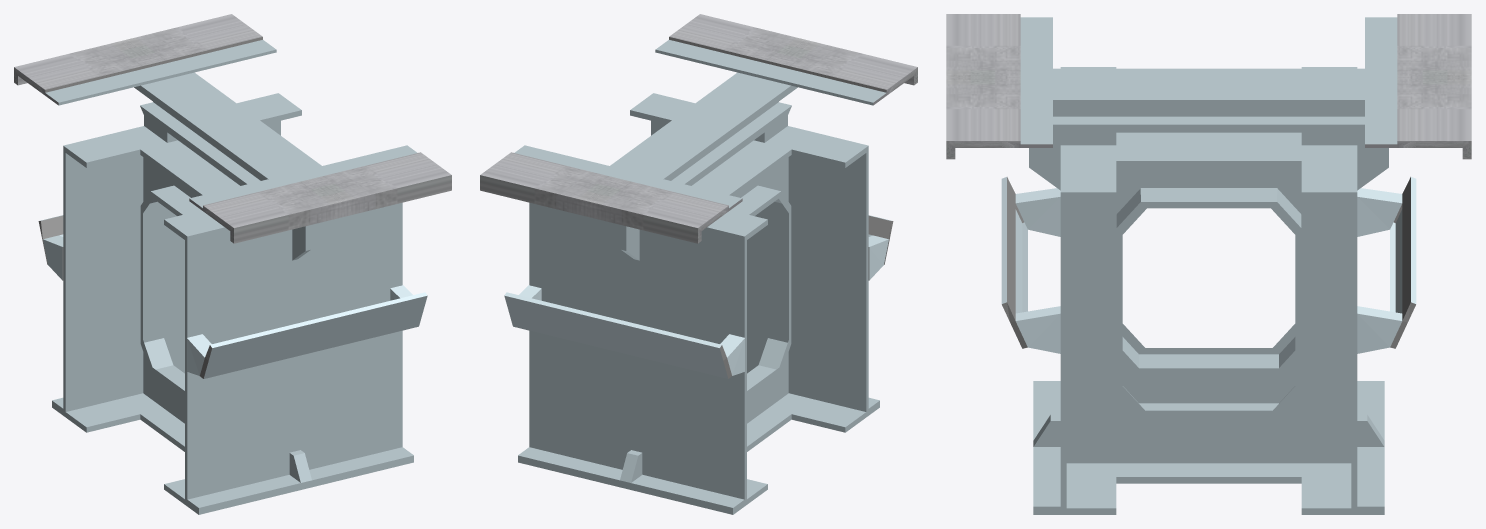
Rendered from rail_mov_part.dae.
3 views of the same model, side by side, from view 1: azimuth 30°, elevation 25°; view 2: azimuth 150°, elevation 25°; view 3: azimuth 270°, elevation 25° (orthographic). The views are drawn at different scales.
Visible parts, largest first — view 1: Cube.001; view 2: Cube.001; view 3: Cube.001.
Part boxes in pixels (bbox=[...]): Cube.001: bbox=[14, 14, 451, 514]; Cube.001: bbox=[480, 14, 917, 514]; Cube.001: bbox=[946, 14, 1471, 514].
Bounding box in the file's own units: 2.03 × 3.54 × 2.79.
Materials: 5 (3 with a texture image).
